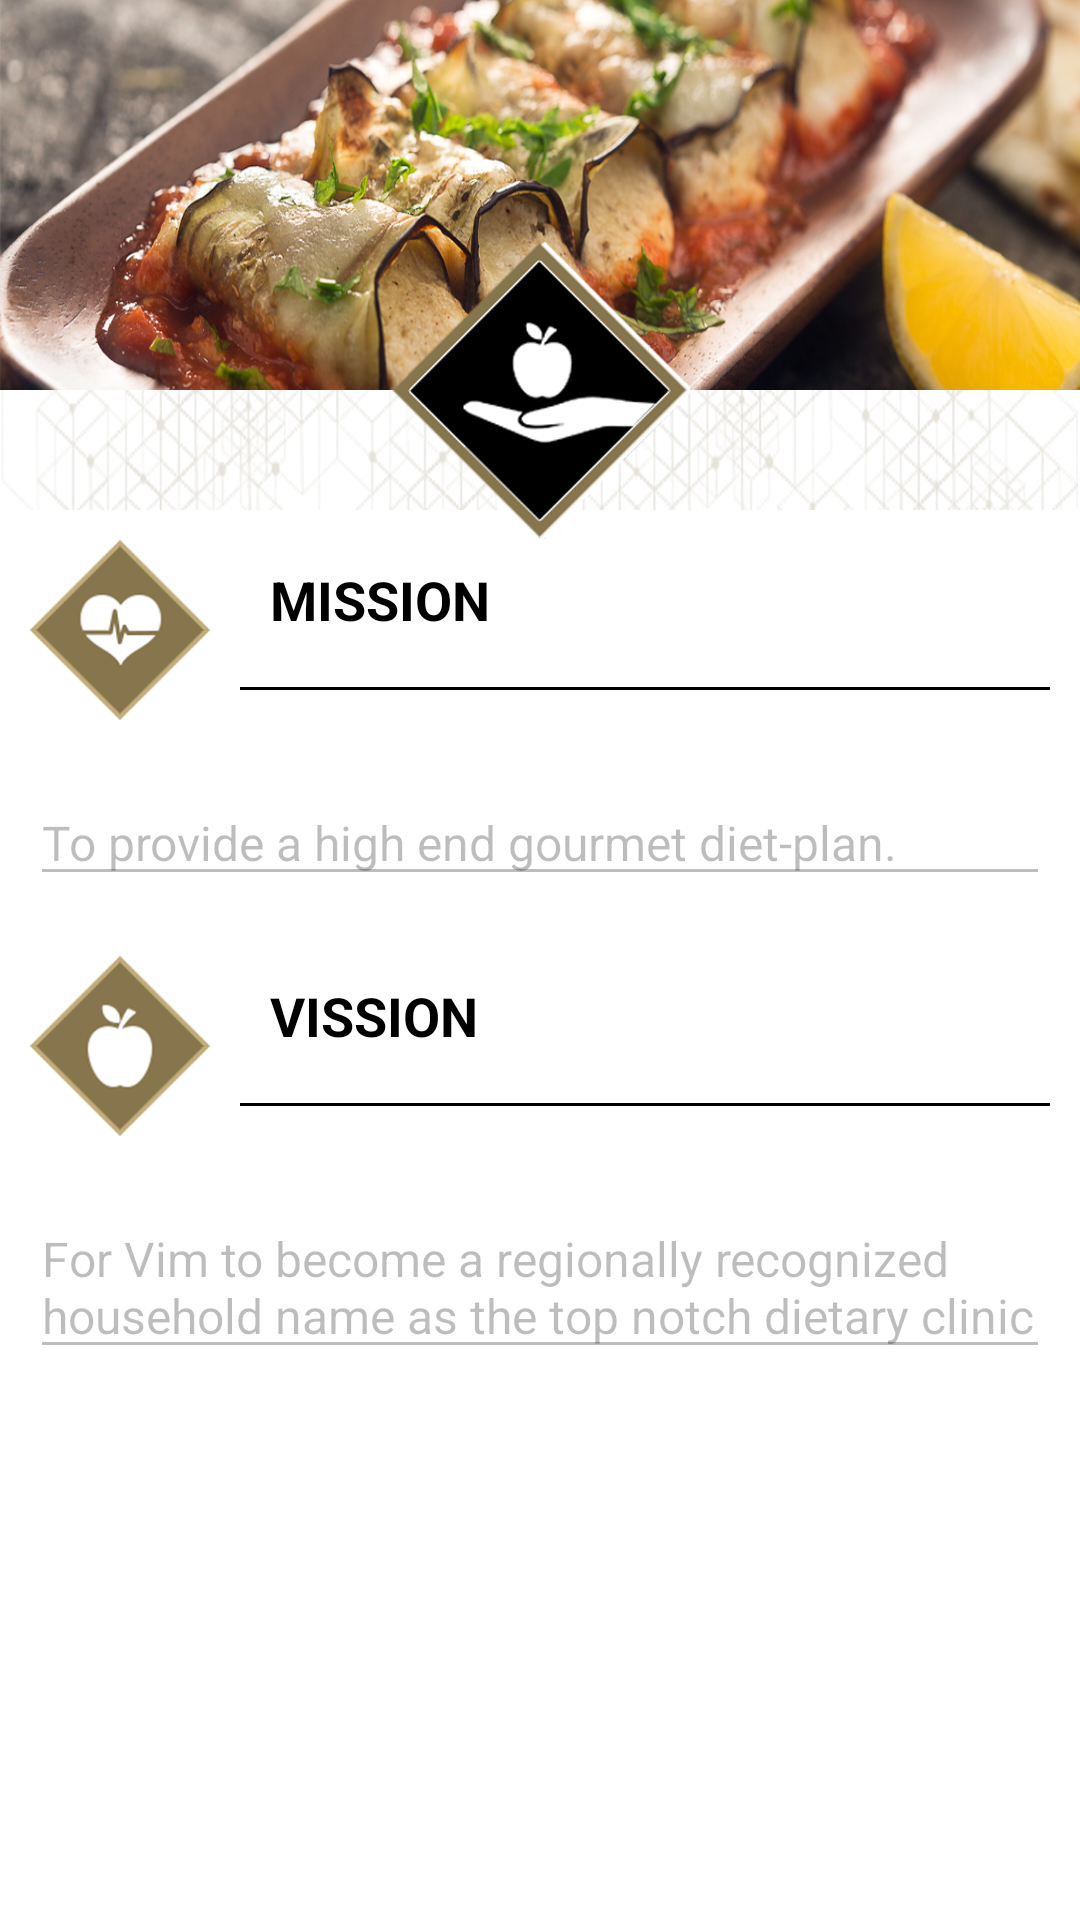

Screen size 1080x1920. Icon name, then its center in pixels as (x=x, y=y):
heart: (x=120, y=630)
